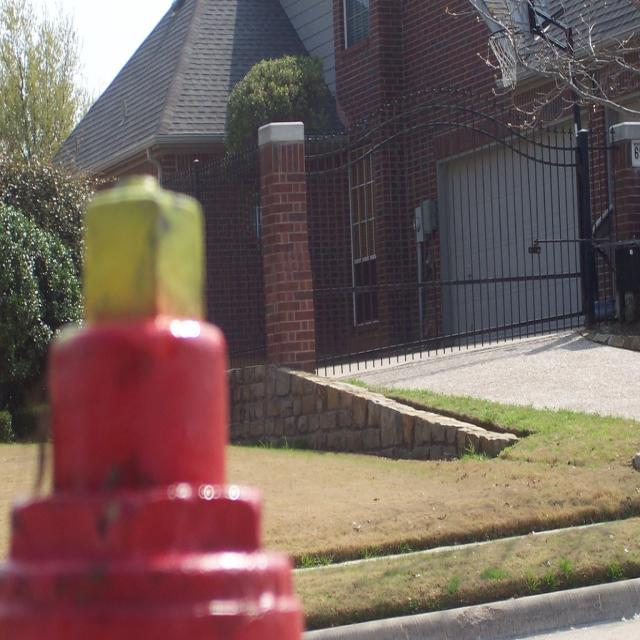fire_hydrant: (2, 175, 306, 639)
